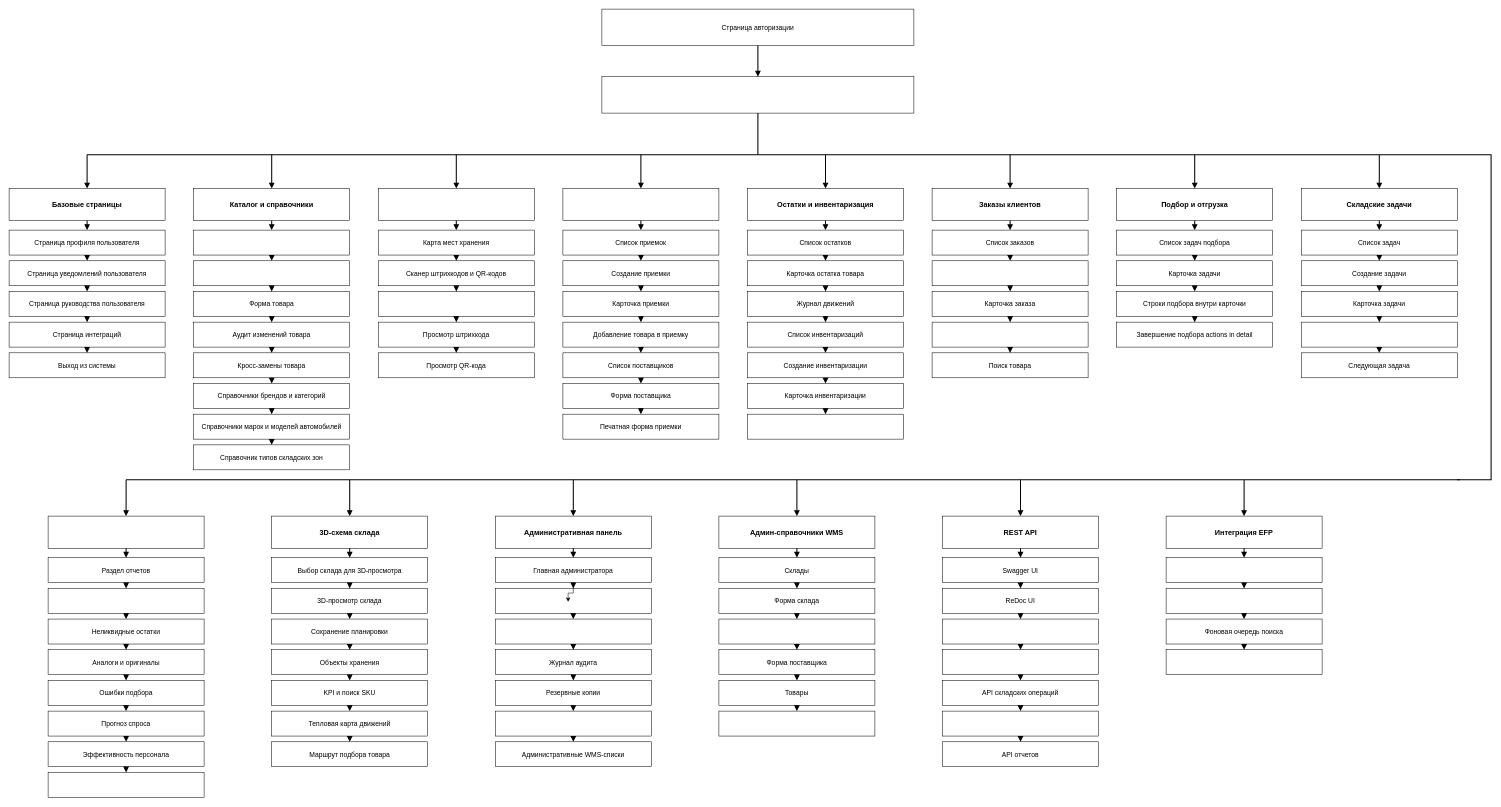
This 1501x807 diagram has some shape labels left out. The shapes that lost their labels are listed below. From the top down, each one's centre as x and y in pixels, then its label:
the point at 757,94: Главная панель пользователя
the point at 456,204: Штрихкоды и хранение
the point at 640,204: Приемка
the point at 271,242: Главная страница каталога
the point at 271,273: Список товаров
the point at 1010,273: Создание заказа
the point at 456,303: Этикетка товара
the point at 1010,334: Удаление строки заказа
the point at 1379,334: Мониторинг задач
the point at 825,426: Подсказка товара при инвентаризации
the point at 126,532: Отчеты и аналитика
the point at 1244,570: Поиск детали EFP
the point at 126,600: ABC/XYZ-анализ
the point at 573,600: Список пользователей
the point at 1244,600: Детали найденной позиции EFP
the point at 573,631: Карточка пользователя
the point at 796,631: Поставщики
the point at 1020,631: Схема OpenAPI
the point at 1020,662: API справочников и товаров
the point at 1244,662: Ссылка на ручной поиск
the point at 573,723: Настройки системы
the point at 796,723: Заказы, приемки, задачи
the point at 1020,723: API заказов и подбора
the point at 126,784: Автоформирование
